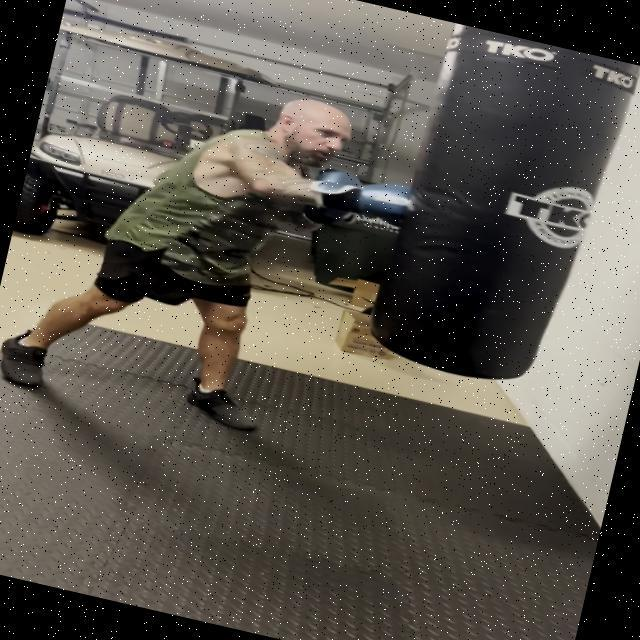punch: (146, 55, 462, 271)
